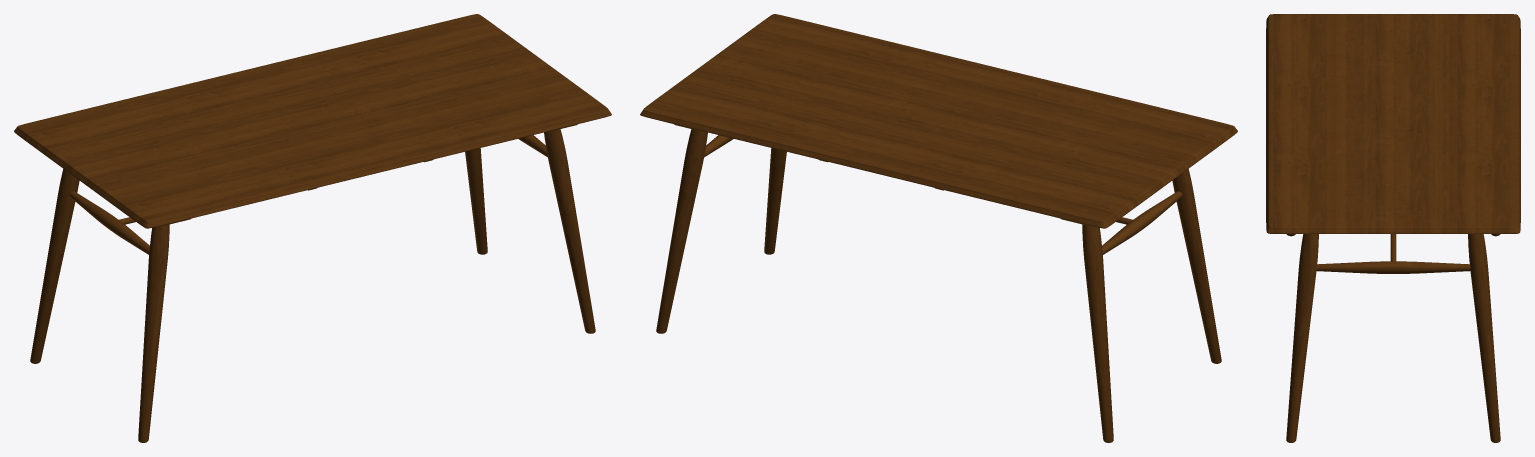
The model's file is table_49.001.fbx.
The picture shows the model from 3 angles, left to right: view 1: azimuth 30°, elevation 25°; view 2: azimuth 150°, elevation 25°; view 3: azimuth 270°, elevation 25°; orthographic projection. The views are drawn at different scales.
Visible parts, largest first — view 1: table_49.001; view 2: table_49.001; view 3: table_49.001.
Part boxes in pixels (x1,y1,x2,y2): table_49.001: (14, 14, 611, 442); table_49.001: (640, 14, 1237, 442); table_49.001: (1266, 14, 1520, 442).
Size of the model in its own units: 160 by 74.96 by 79.5.
Materials: 1 (1 with a texture image).
